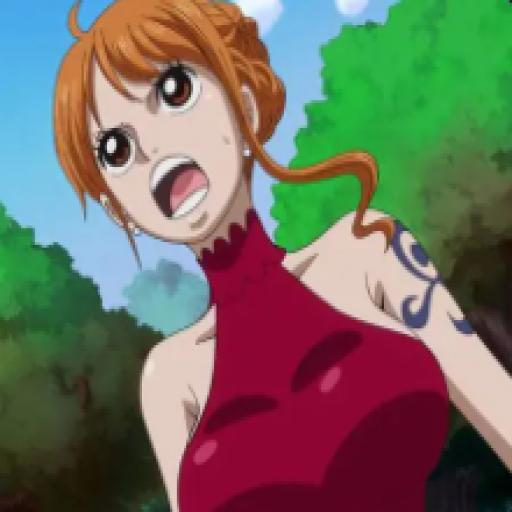Nami: (48, 0, 512, 512)
